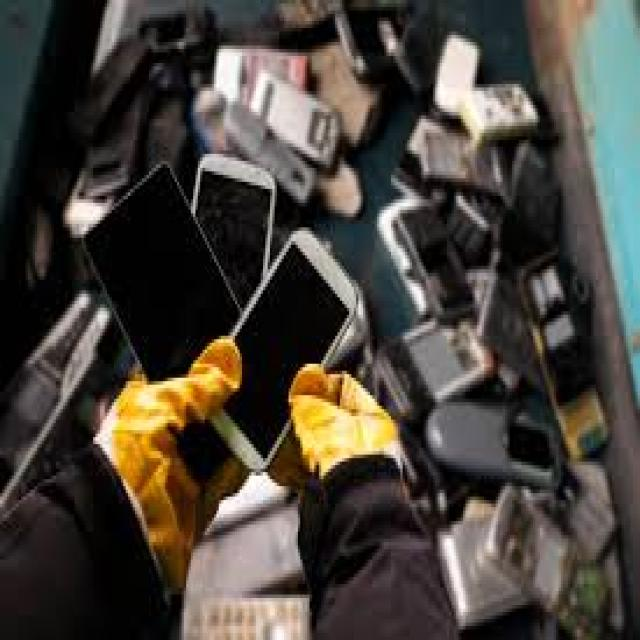Hazard: (108, 0, 625, 461)
